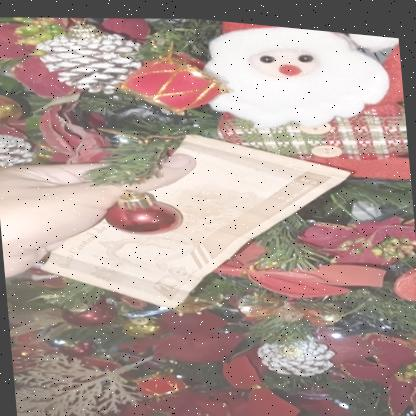vef_back: (27, 103, 362, 330)
